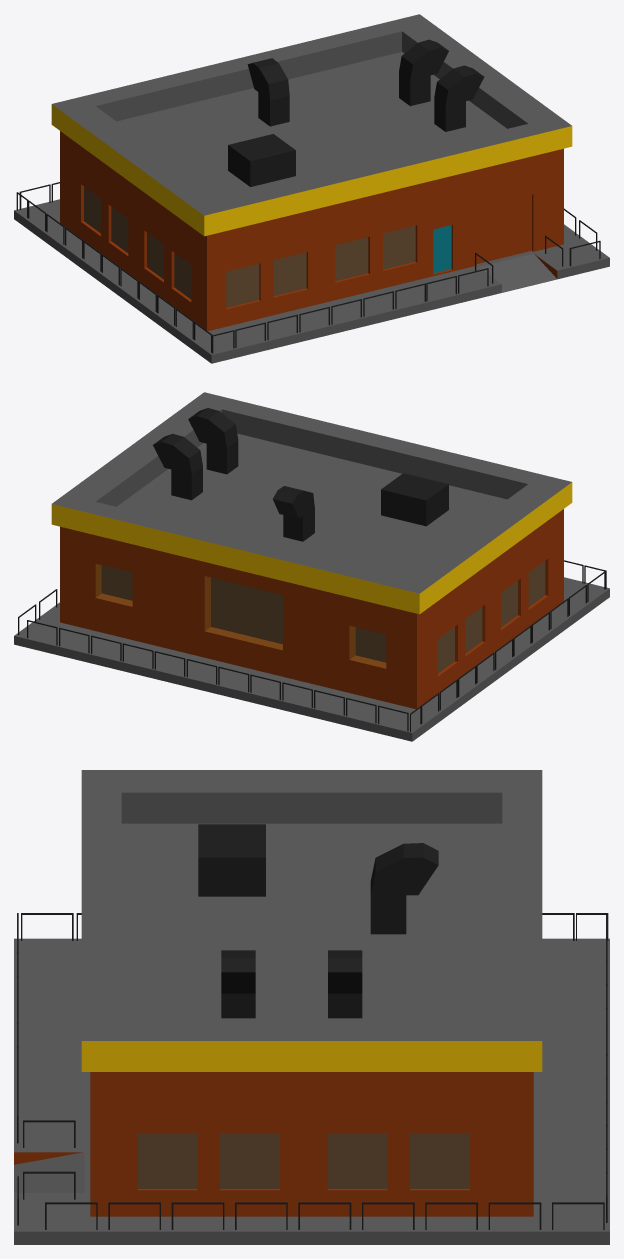
Rendered from WareHouse_Level02.FBX.
3 renders of one model, top to bottom at view 1: azimuth 30°, elevation 25°; view 2: azimuth 150°, elevation 25°; view 3: azimuth 270°, elevation 25°, orthographic. The views are drawn at different scales.
Visible parts, largest first — view 1: warhouse; view 2: warhouse; view 3: warhouse.
Boxes of the visible parts, x1,y1,x2,y2 form: warhouse: (14, 14, 609, 363); warhouse: (14, 392, 609, 741); warhouse: (14, 770, 609, 1244).
Size of the model in its own units: 2783 by 1057 by 2391.
